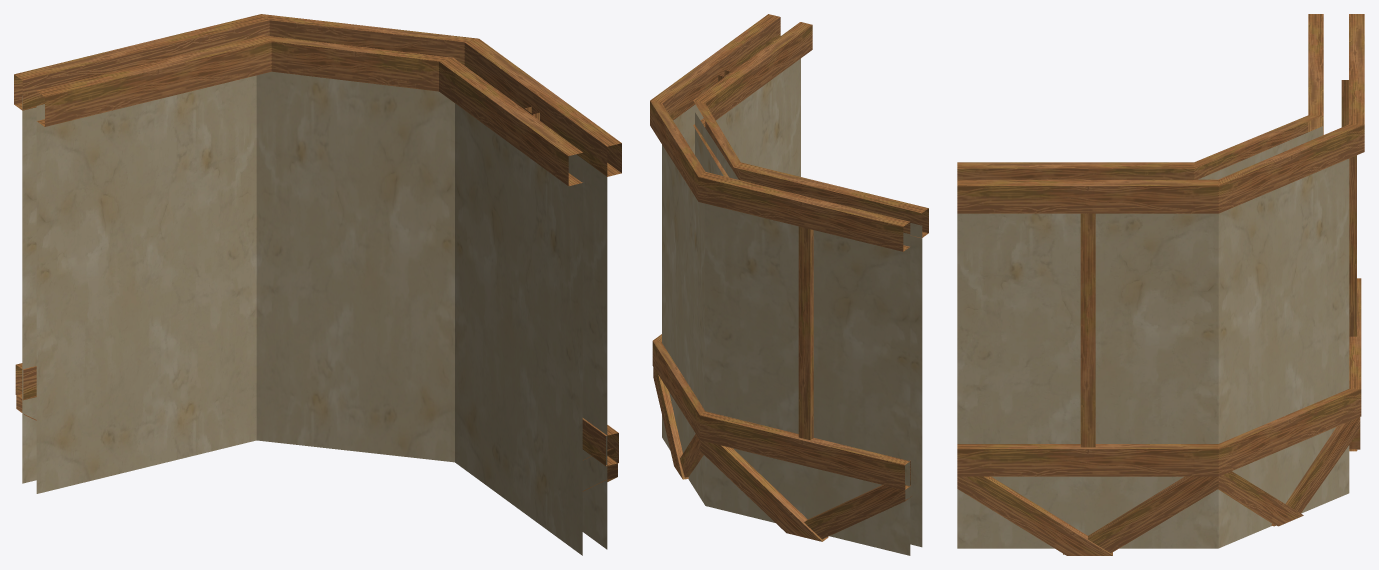
File: Overhang_Plaster_Corner_Front.gltf
The picture shows the model from 3 angles, left to right: view 1: azimuth 30°, elevation 25°; view 2: azimuth 150°, elevation 25°; view 3: azimuth 270°, elevation 25°; orthographic projection. The views are drawn at different scales.
Visible parts, largest first — view 1: Overhang_Plaster_Corner_Front; view 2: Overhang_Plaster_Corner_Front; view 3: Overhang_Plaster_Corner_Front.
Part boxes in pixels (box(x1,y1,x2,y2)): Overhang_Plaster_Corner_Front: box(14, 14, 621, 555); Overhang_Plaster_Corner_Front: box(650, 14, 928, 555); Overhang_Plaster_Corner_Front: box(957, 14, 1364, 555).
Bounding box in the file's own units: 3.12 × 3.14 × 3.12.
Materials: 2 (2 with a texture image).
